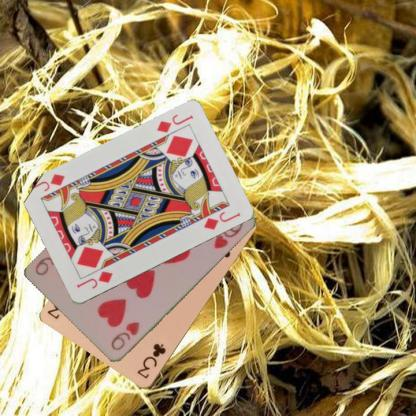3c: (134, 341, 167, 380)
9h: (108, 318, 141, 352)
Jd: (154, 112, 194, 135), (73, 268, 114, 290)
